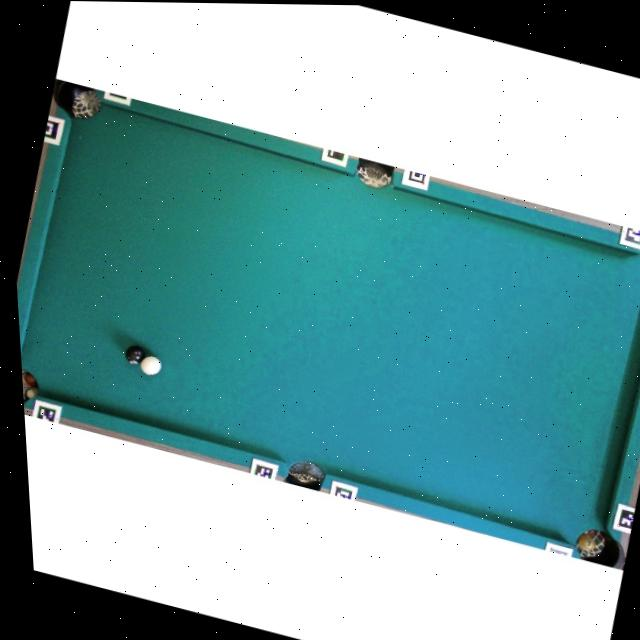cue ball: (137, 352, 164, 378)
other: (121, 342, 149, 366)
